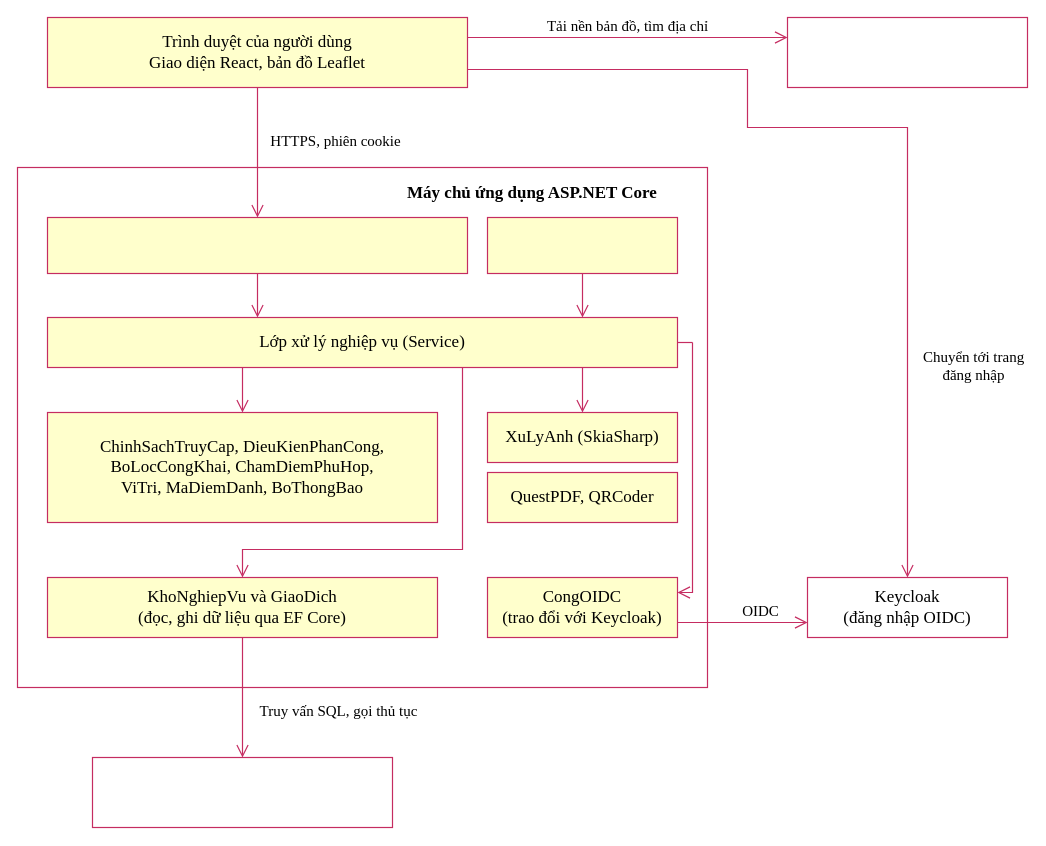
This 1046x846 diagram has some shape labels left out. Here are the shapes that lost their labels. From the top down, the centre of each, then its label:
At (x=907, y=52): "OpenStreetMap (nền bản đồ, tìm địa chỉ)".
At (x=257, y=245): "Lớp giao diện (Boundary) tiếp nhận yêu cầu, trả kết quả".
At (x=582, y=245): "Tác vụ nền: chuyển mốc giờ, nhắc trước ca".
At (x=242, y=792): "SQL Server 25 bảng, 3 view, kể cả ảnh".
